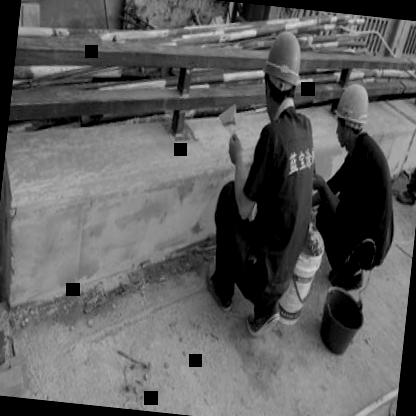helmet: (257, 26, 307, 118), (328, 76, 374, 155)
